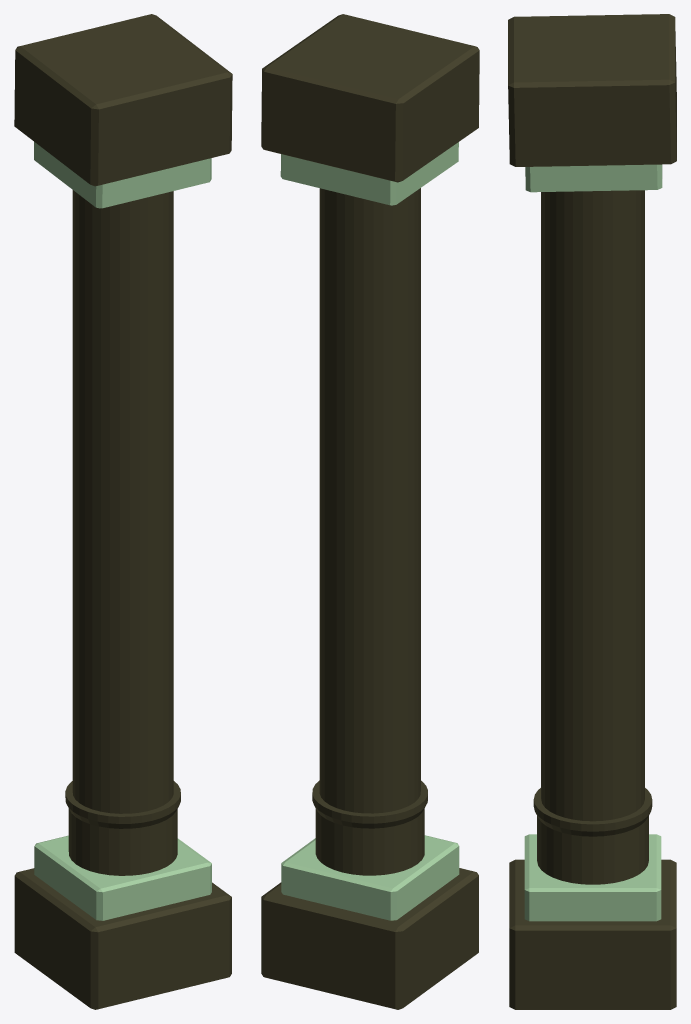
File: pillar3B(F266).obj
3 renders of one model, left to right at view 1: azimuth 30°, elevation 25°; view 2: azimuth 150°, elevation 25°; view 3: azimuth 270°, elevation 25°, orthographic. The views are drawn at different scales.
Visible parts, largest first — view 1: Cylinder, Cube.002, Cube, Cube.001, Cube.003; view 2: Cylinder, Cube.002, Cube, Cube.001, Cube.003; view 3: Cylinder, Cube.002, Cube, Cube.001, Cube.003.
Boxes of the visible parts, x1=… form: Cylinder: x1=65, y1=190, x2=180, y2=875; Cube.002: x1=14, y1=14, x2=232, y2=186; Cube: x1=14, y1=868, x2=231, y2=1009; Cube.001: x1=34, y1=835, x2=211, y2=920; Cube.003: x1=34, y1=142, x2=211, y2=208; Cylinder: x1=312, y1=188, x2=427, y2=875; Cube.002: x1=261, y1=14, x2=479, y2=182; Cube: x1=261, y1=868, x2=478, y2=1009; Cube.001: x1=281, y1=835, x2=459, y2=920; Cube.003: x1=280, y1=142, x2=458, y2=205; Cylinder: x1=533, y1=190, x2=652, y2=884; Cube.002: x1=508, y1=14, x2=676, y2=166; Cube: x1=509, y1=859, x2=676, y2=1009; Cube.001: x1=524, y1=834, x2=661, y2=921; Cube.003: x1=525, y1=164, x2=662, y2=192.
Size of the model in its own units: 1.03 by 6.35 by 1.04.
